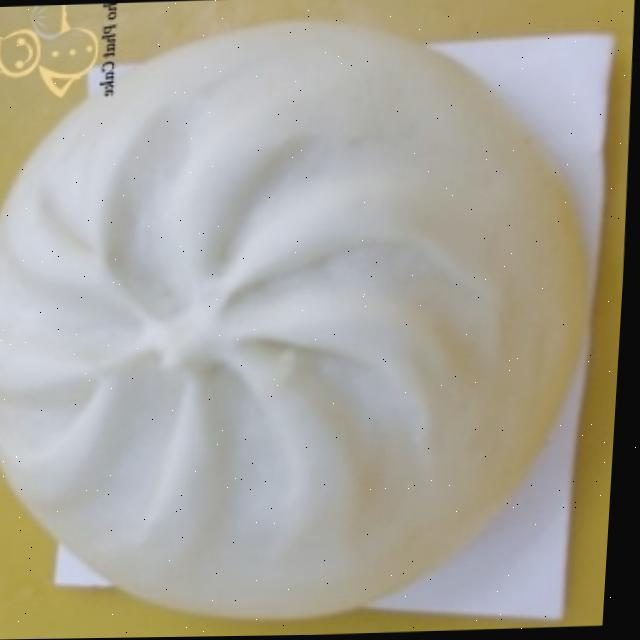带馅早点: (0, 28, 589, 633)
